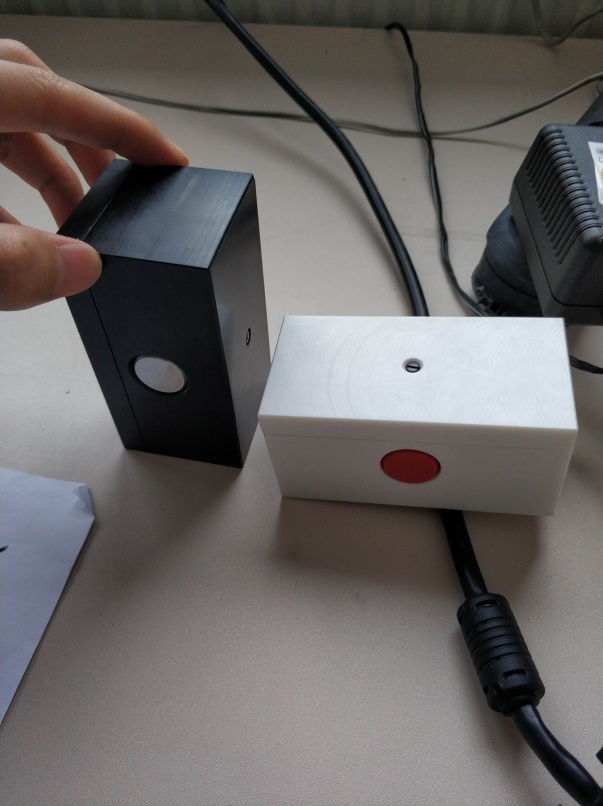black+black+silver: (54, 152, 271, 471)
white+white+red: (250, 310, 577, 518)
